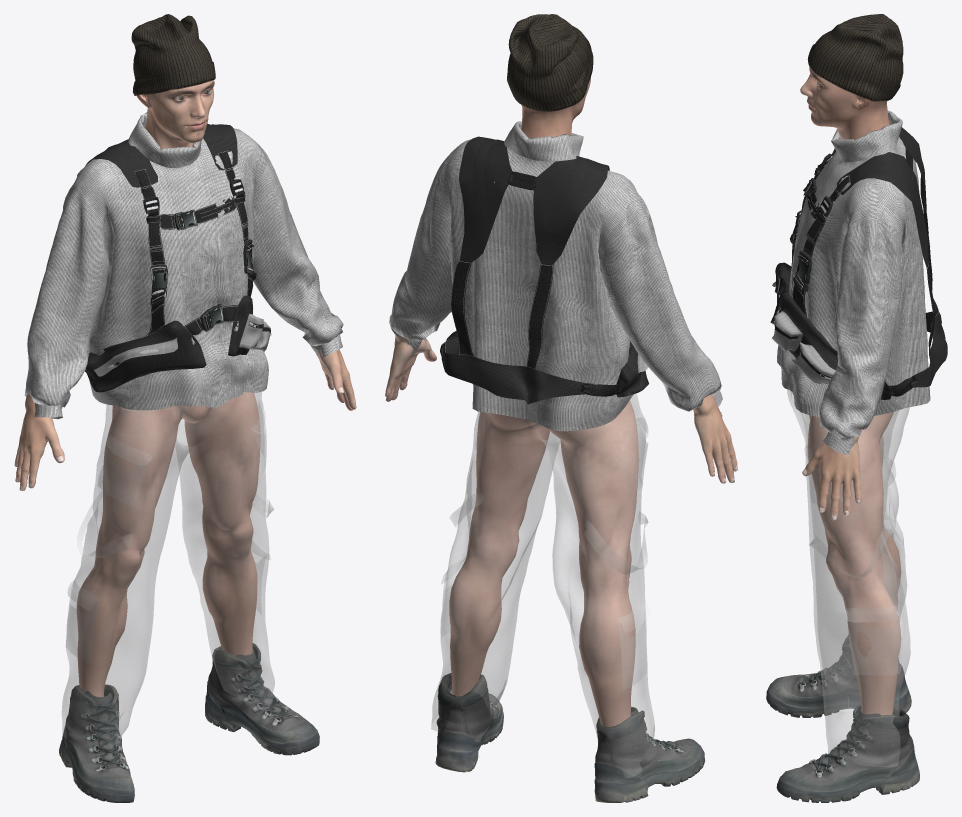
File: KILLEN2.glb
The picture shows the model from 3 angles, left to right: view 1: azimuth 30°, elevation 25°; view 2: azimuth 150°, elevation 25°; view 3: azimuth 270°, elevation 25°; orthographic projection. The views are drawn at different scales.
Parts seen in each view (by area): view 1: T20_Sweater, B06_Cargos.001, Body_AV02, T17_Tactical Vest_Detail Mesh.001, F06_Hiking Boots, A03_Beanie; view 2: B06_Cargos.001, T20_Sweater, Body_AV02, T17_Tactical Vest_Detail Mesh.001, F06_Hiking Boots, A03_Beanie; view 3: T20_Sweater, B06_Cargos.001, Body_AV02, F06_Hiking Boots, T17_Tactical Vest_Detail Mesh.001, A03_Beanie.
Part boxes in pixels (x1=…): T20_Sweater: x1=24, y1=112, x2=343, y2=419; B06_Cargos.001: x1=61, y1=380, x2=274, y2=744; Body_AV02: x1=14, y1=80, x2=356, y2=696; T17_Tactical Vest_Detail Mesh.001: x1=85, y1=123, x2=271, y2=392; F06_Hiking Boots: x1=59, y1=643, x2=319, y2=802; A03_Beanie: x1=131, y1=14, x2=215, y2=95; B06_Cargos.001: x1=431, y1=393, x2=654, y2=778; T20_Sweater: x1=389, y1=121, x2=722, y2=431; Body_AV02: x1=385, y1=77, x2=737, y2=727; T17_Tactical Vest_Detail Mesh.001: x1=440, y1=136, x2=648, y2=404; F06_Hiking Boots: x1=435, y1=673, x2=704, y2=802; A03_Beanie: x1=507, y1=14, x2=593, y2=111; T20_Sweater: x1=777, y1=110, x2=930, y2=455; B06_Cargos.001: x1=787, y1=383, x2=910, y2=766; Body_AV02: x1=800, y1=67, x2=901, y2=715; F06_Hiking Boots: x1=766, y1=634, x2=919, y2=802; T17_Tactical Vest_Detail Mesh.001: x1=770, y1=127, x2=947, y2=399; A03_Beanie: x1=807, y1=14, x2=903, y2=101.
Bounding box in the file's own units: 0.8875 × 1.86 × 0.4171.
14 materials, 12 textured.
